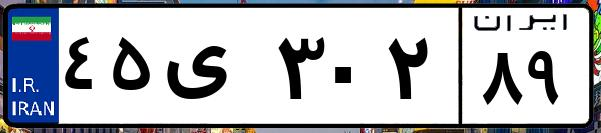0: (330, 28, 385, 110)
2: (385, 28, 445, 110)
3: (270, 28, 330, 110)
4: (57, 26, 110, 100)
5: (110, 28, 158, 98)
8: (475, 38, 525, 113)
9: (525, 38, 570, 115)
ی: (158, 20, 270, 120)
